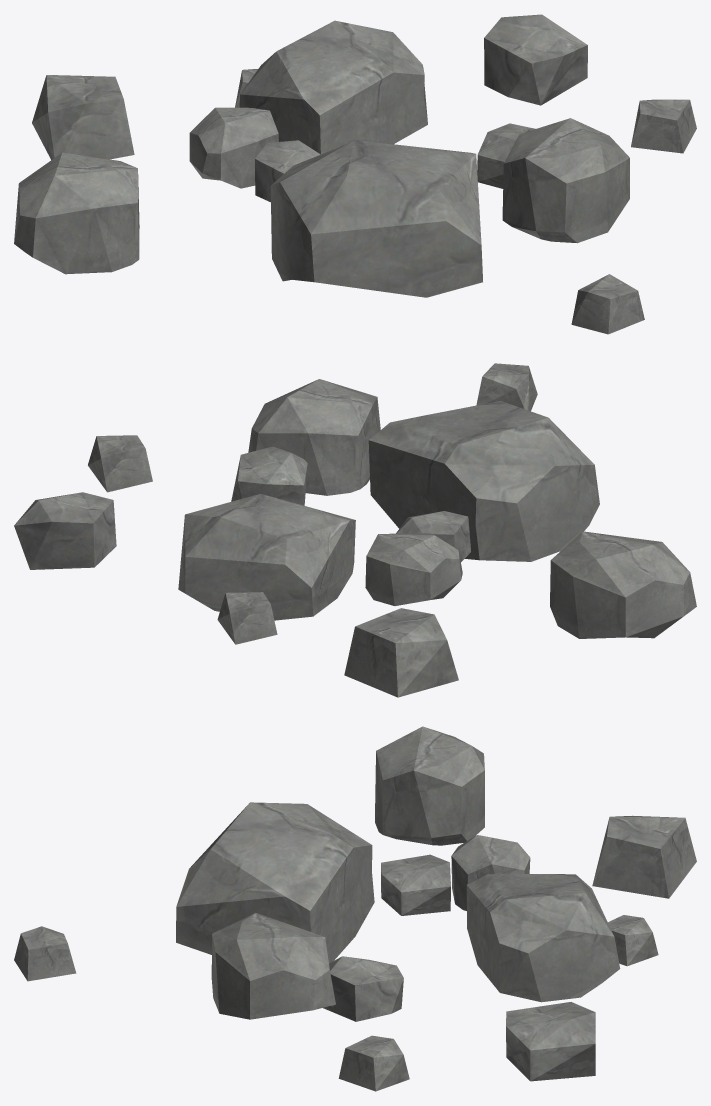
File: CollectibleStone (3).fbx
3 views of the same model, one above another, from view 1: azimuth 30°, elevation 25°; view 2: azimuth 150°, elevation 25°; view 3: azimuth 270°, elevation 25° (orthographic). The views are drawn at different scales.
Parts seen in each view (by area): view 1: ItemBox_Pebbles_01; view 2: ItemBox_Pebbles_01; view 3: ItemBox_Pebbles_01.
Part boxes in pixels (x1,y1,x2,y2): ItemBox_Pebbles_01: [14, 14, 696, 334]; ItemBox_Pebbles_01: [14, 363, 696, 697]; ItemBox_Pebbles_01: [14, 726, 696, 1091].
Bounding box in the file's own units: 1.61 × 0.2794 × 1.54.
1 material, 1 textured.
